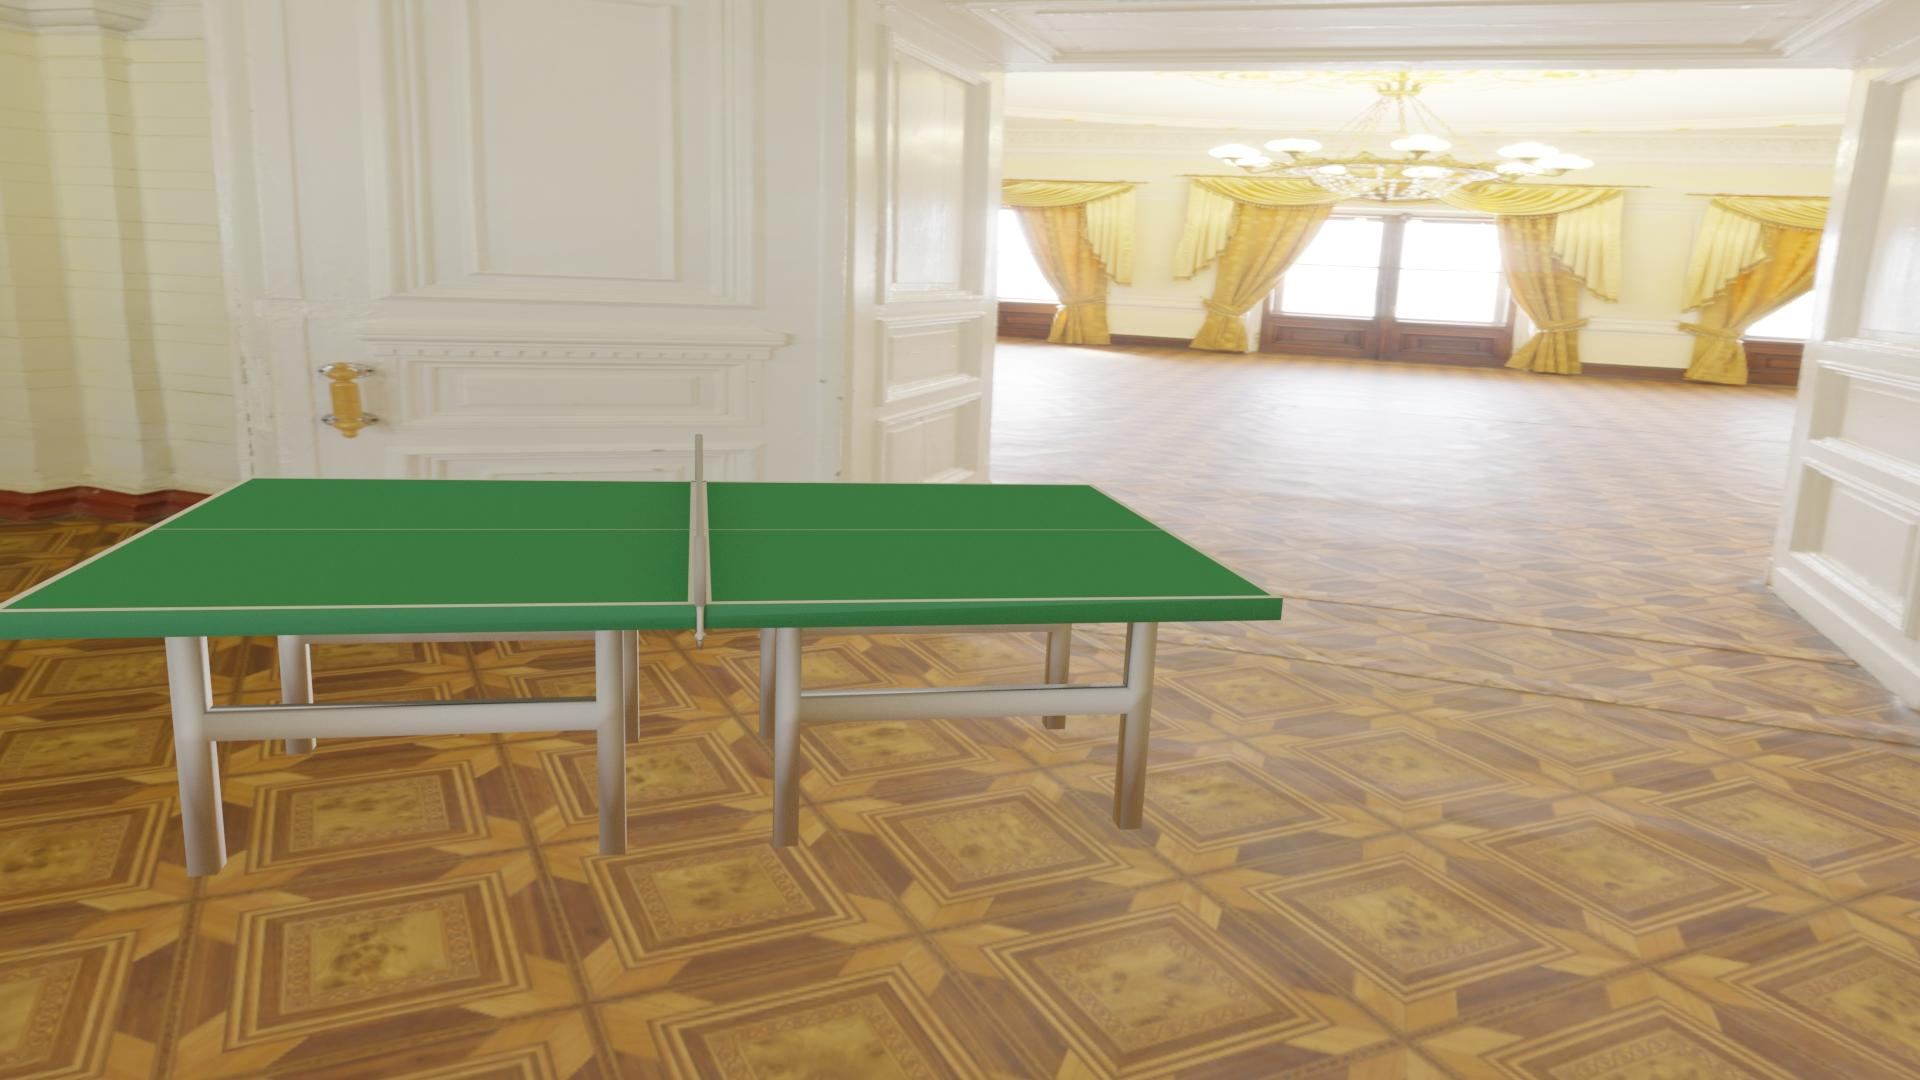table: (1, 479, 1273, 609)
